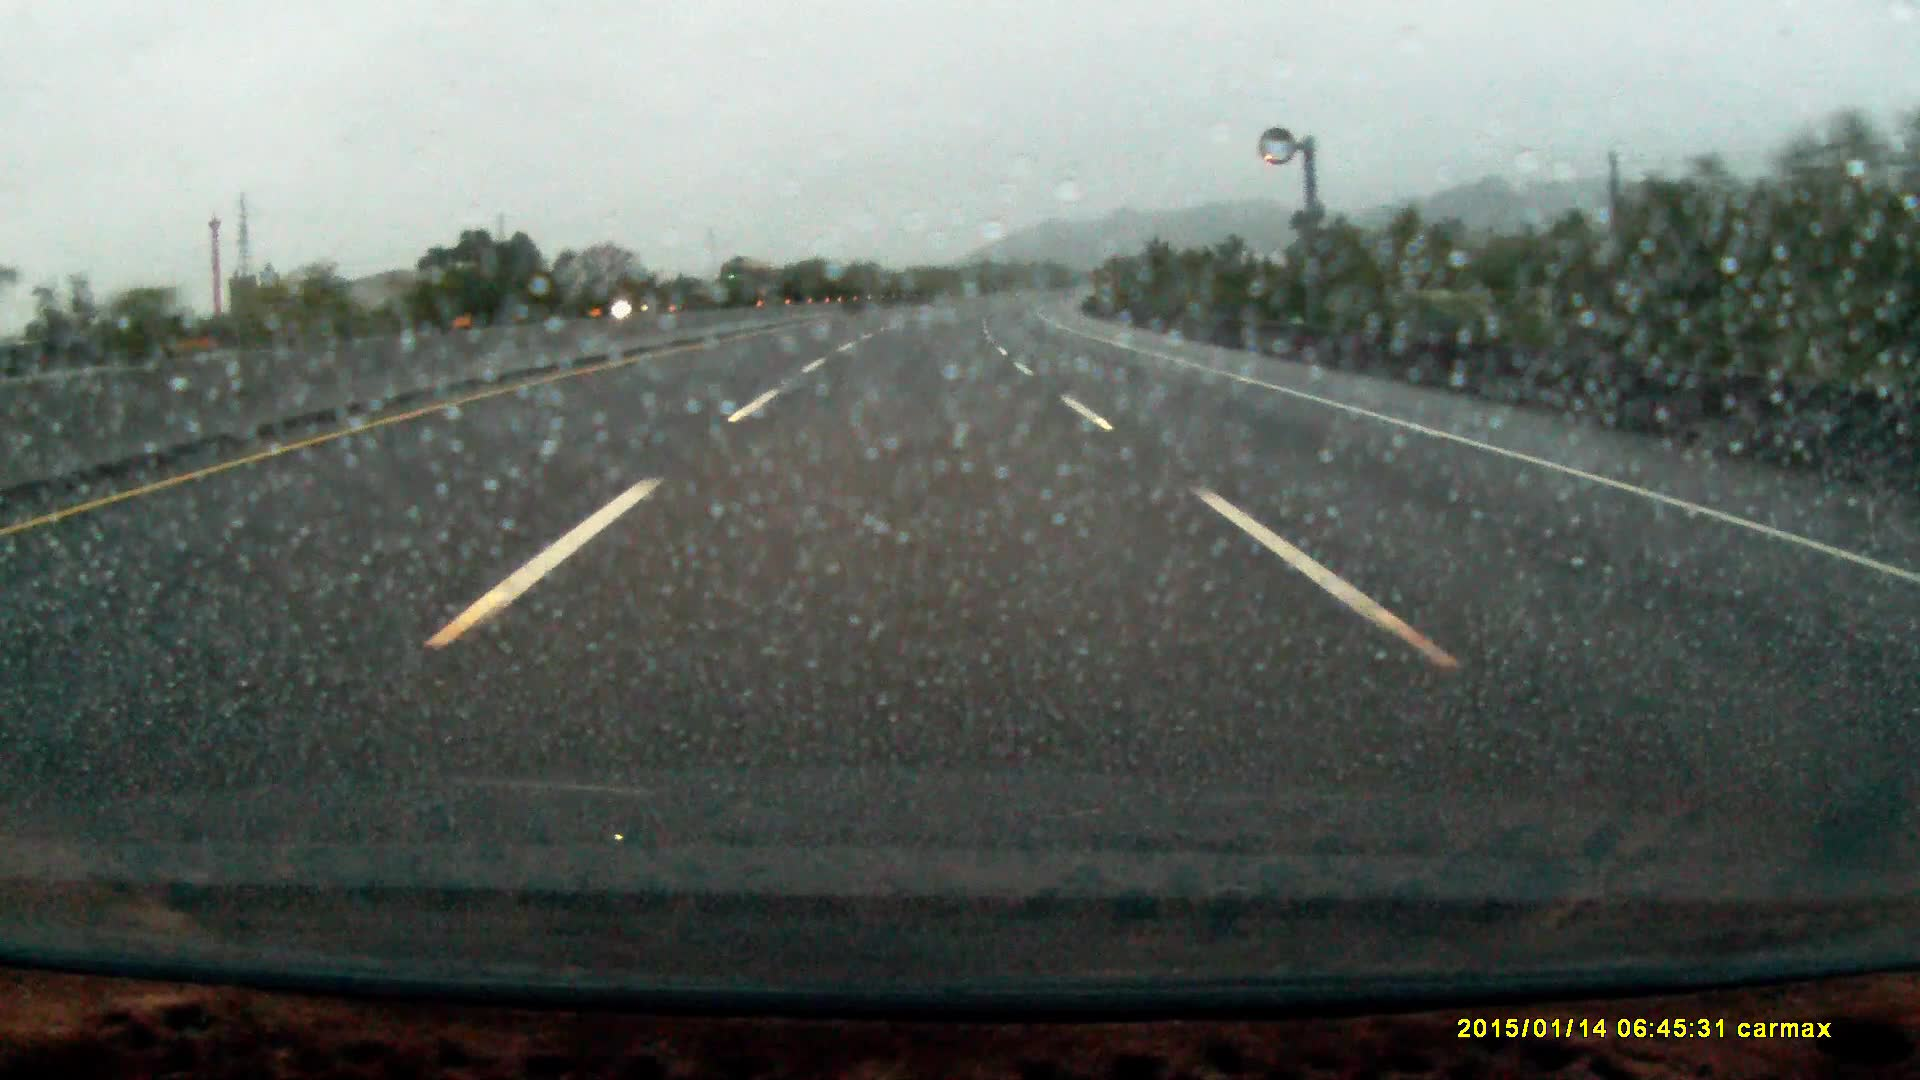vehicle: (711, 257, 760, 303), (612, 287, 669, 315)
